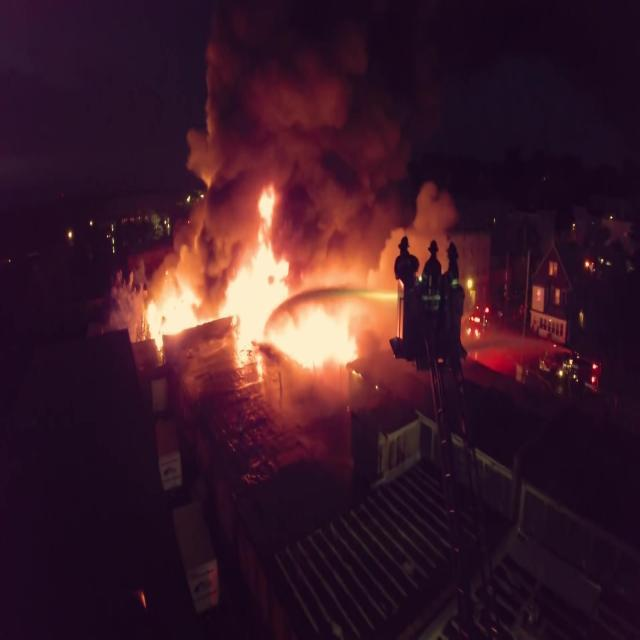Fire: (150, 180, 359, 380)
Smoke: (148, 0, 440, 338)
